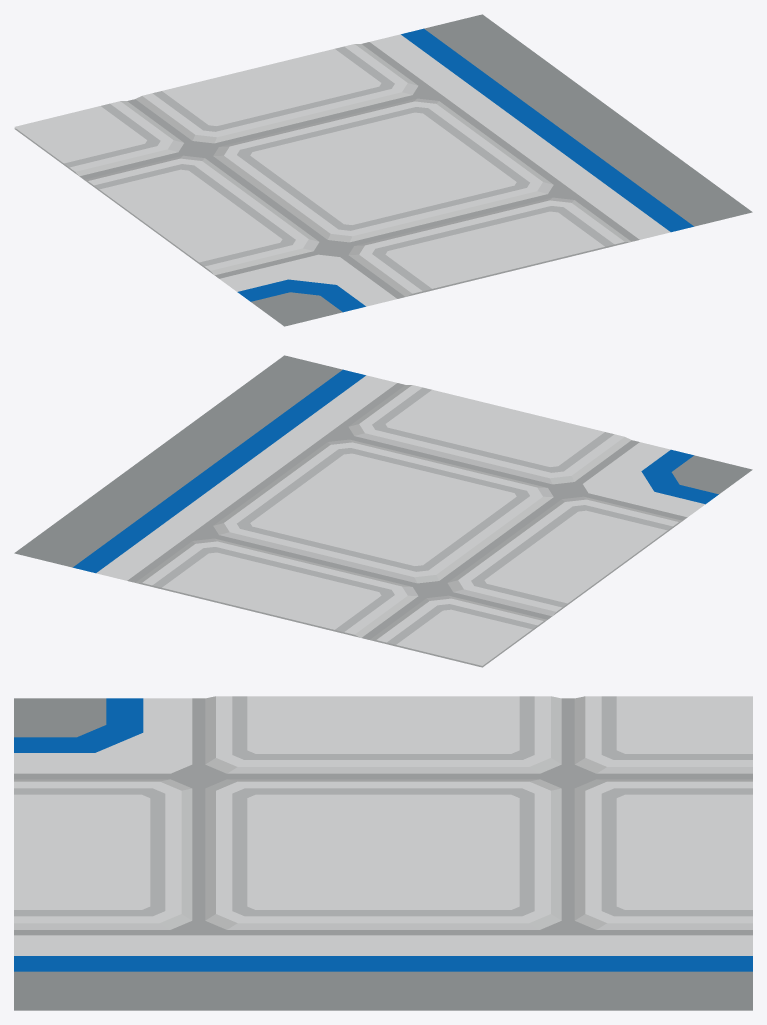
The model's file is Floor_type_A_037.fbx.
The picture shows the model from 3 angles, top to bottom: view 1: azimuth 30°, elevation 25°; view 2: azimuth 150°, elevation 25°; view 3: azimuth 270°, elevation 25°; orthographic projection. The views are drawn at different scales.
Parts seen in each view (by area): view 1: Floor_type_A_037; view 2: Floor_type_A_037; view 3: Floor_type_A_037.
Boxes of the visible parts, bbox=[...] form: Floor_type_A_037: bbox=[14, 14, 752, 326]; Floor_type_A_037: bbox=[14, 355, 752, 667]; Floor_type_A_037: bbox=[14, 696, 752, 1010].
Size of the model in its own units: 400 by 400 by 1.34.
